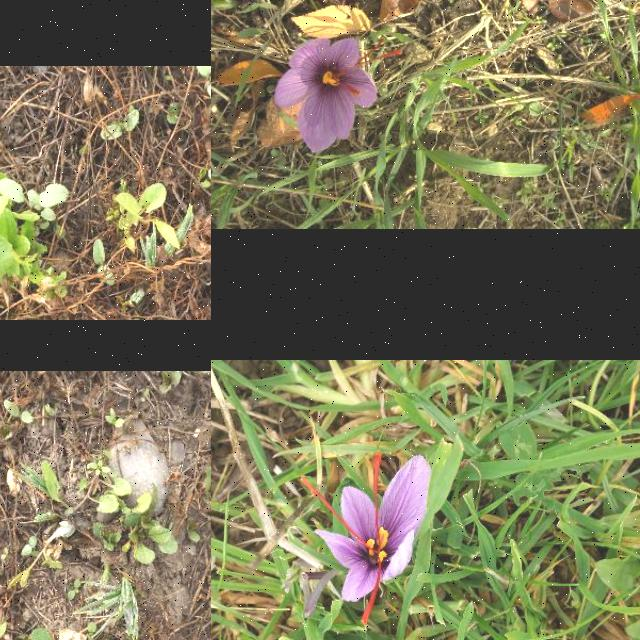flower: (299, 452, 433, 626), (274, 37, 404, 155)
